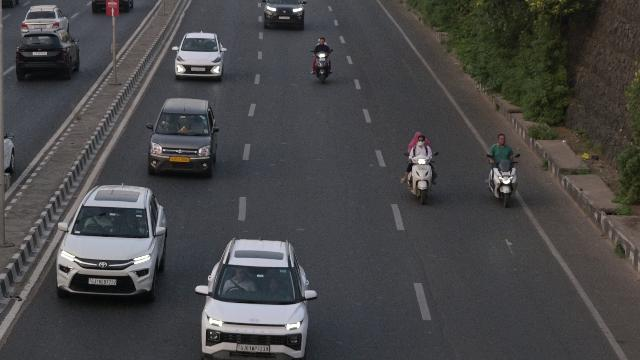Without Helmet: (495, 131, 509, 145), (418, 136, 426, 146), (319, 36, 326, 46)
